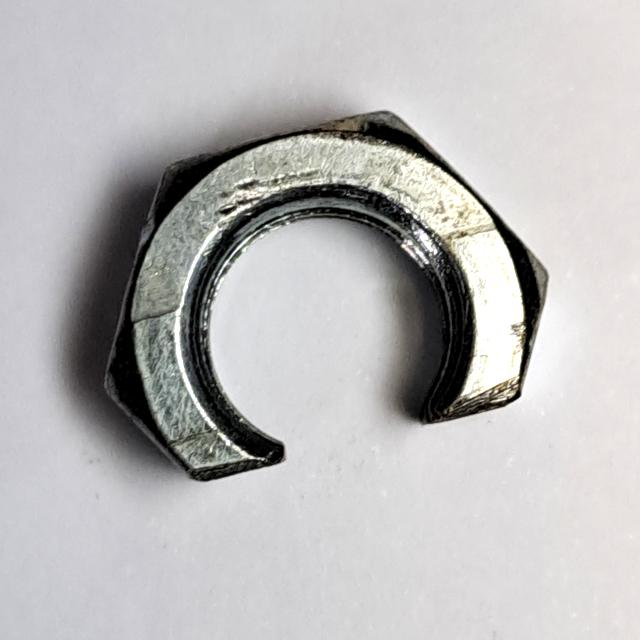Fracture: (92, 94, 563, 505)
